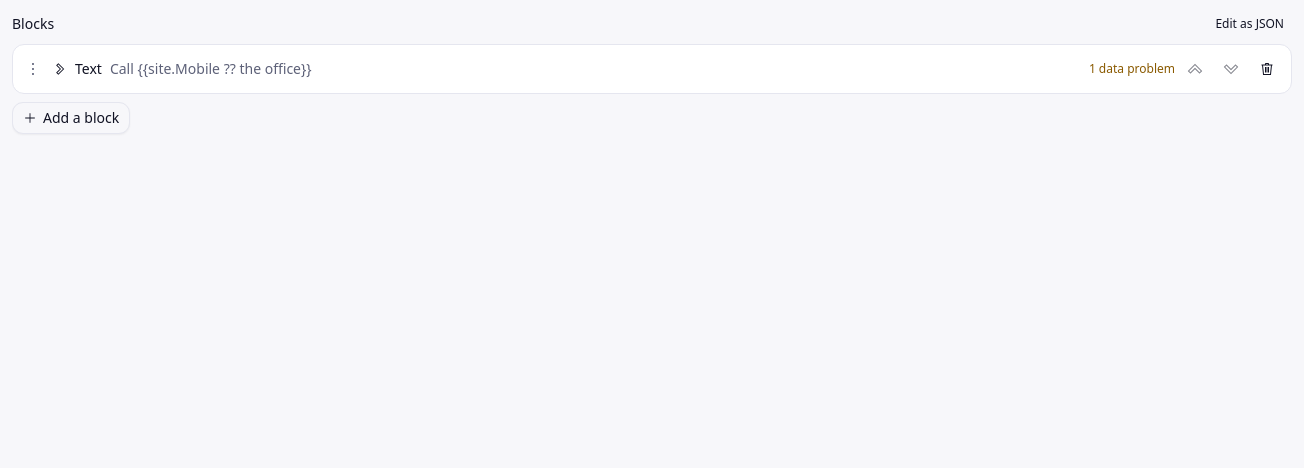
Test: a binding to a field the content type no longer has › marks the block, and says what the page will show instead
Expected: the text "1 data problem" is shown, [1089,61,1175,77]
Click the button "Text Call {{site.Mobile ?? the office}}": (211, 68) [49,55,1085,83]
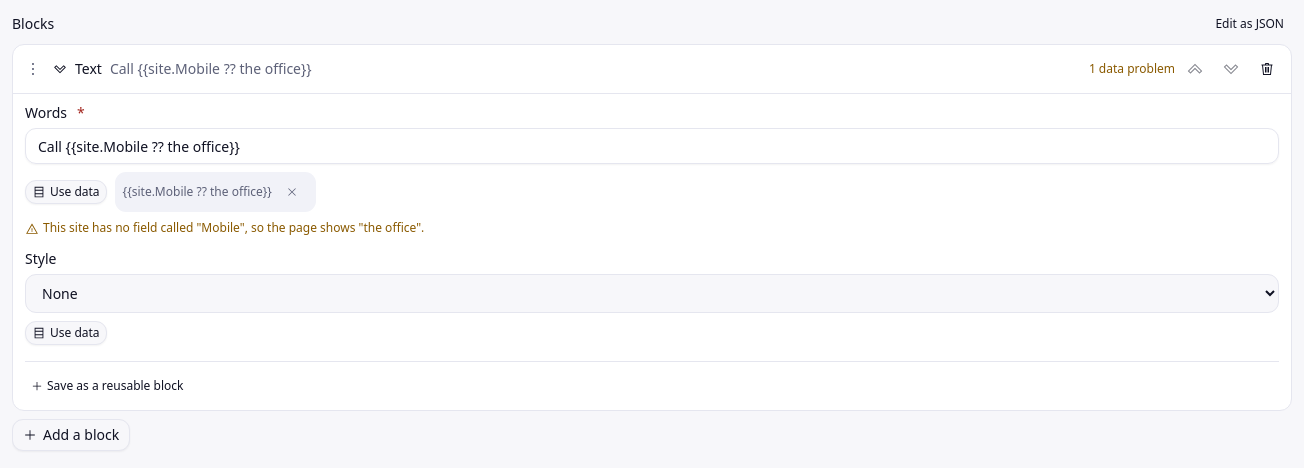
Result: the text "no field called \"Mobile\"" shows "the page shows \"the office\"" at [43,219,424,236]
